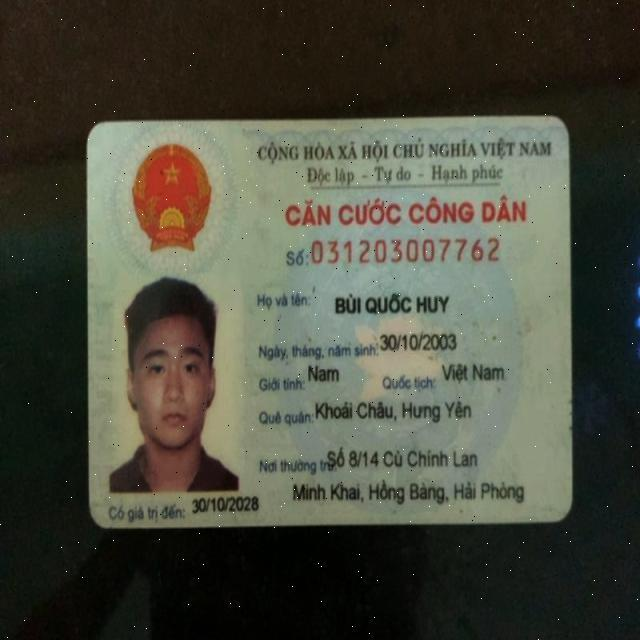current_place: (280, 478, 526, 509), (325, 441, 482, 471)
dob: (377, 330, 460, 355)
expire_date: (192, 494, 260, 518)
gender: (304, 362, 342, 386)
id: (308, 237, 504, 269)
name: (331, 291, 452, 319)
nationality: (441, 355, 507, 388)
origin_place: (309, 395, 484, 427)
